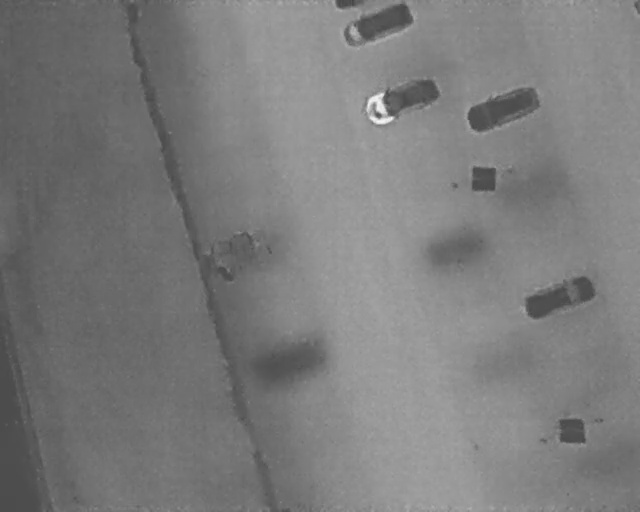Car: (359, 67, 444, 130), (461, 78, 544, 137), (519, 270, 598, 325), (338, 0, 416, 51)
